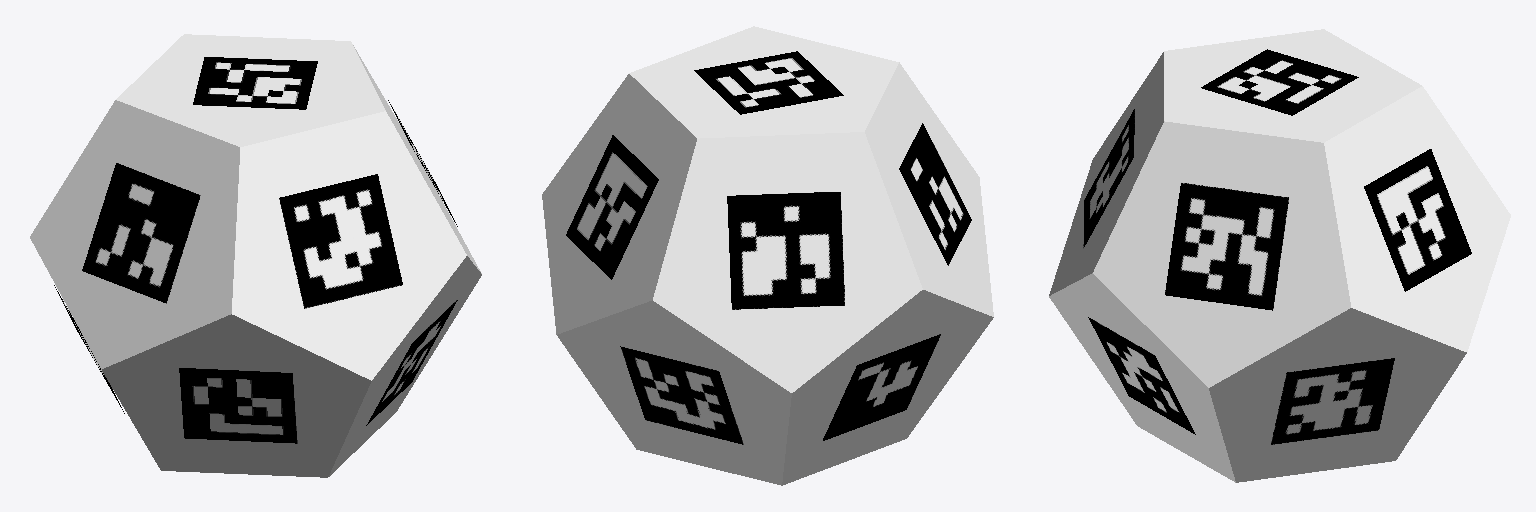
The picture shows the model from 3 angles: view 1: azimuth 30°, elevation 25°; view 2: azimuth 150°, elevation 25°; view 3: azimuth 270°, elevation 25°; orthographic projection.
Visible parts, largest first — view 1: Dodecahedron, AR-Markers; view 2: Dodecahedron, AR-Markers; view 3: Dodecahedron, AR-Markers.
Part boxes in pixels (x1,y1,x2,y2): Dodecahedron: (30,34,481,477); AR-Markers: (54,57,457,443); Dodecahedron: (542,26,993,485); AR-Markers: (566,51,971,444); Dodecahedron: (1049,29,1510,482); AR-Markers: (1083,49,1471,444).
Size of the model in its own units: 0.5136 by 0.4463 by 0.5394.
Materials: 1 (1 with a texture image).